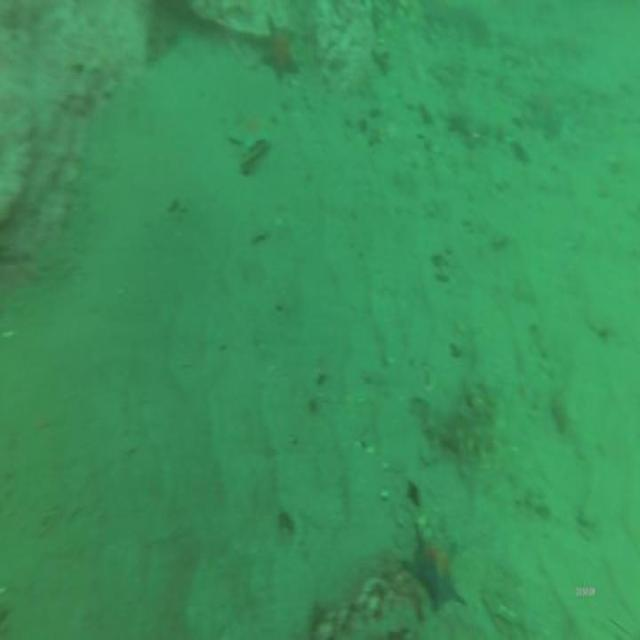holothurian: (422, 378, 502, 466)
starfish: (400, 520, 468, 623), (256, 9, 301, 84), (225, 108, 272, 156)
